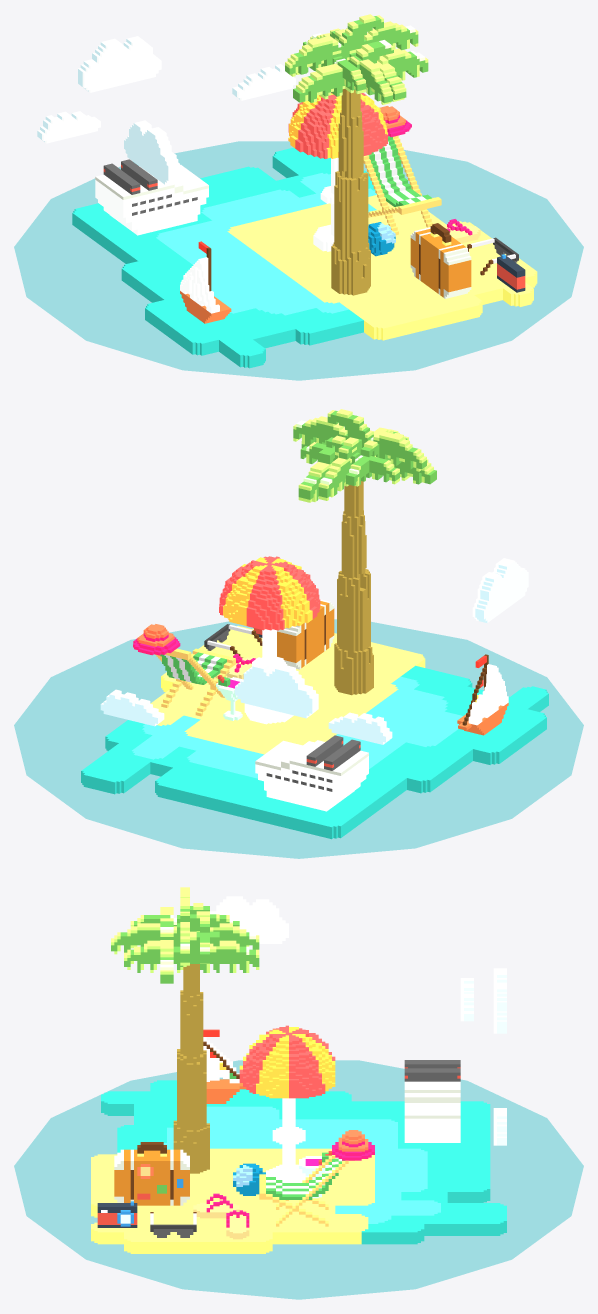
File: map.glb
3 views of the same model, one above another, from view 1: azimuth 30°, elevation 25°; view 2: azimuth 150°, elevation 25°; view 3: azimuth 270°, elevation 25° (orthographic).
Visible parts, largest first — view 1: Object_2, Object_3; view 2: Object_2, Object_3; view 3: Object_2, Object_3.
Boxes of the visible parts, x1,y1,x2,y2 form: Object_2: (37,14,537,368); Object_3: (14,141,583,380); Object_2: (81,409,548,839); Object_3: (14,619,583,858); Object_2: (91,887,506,1253); Object_3: (14,1060,583,1299).
Bounding box in the file's own units: 5.73 × 3.13 × 5.76.
Materials: 2 (1 with a texture image).
